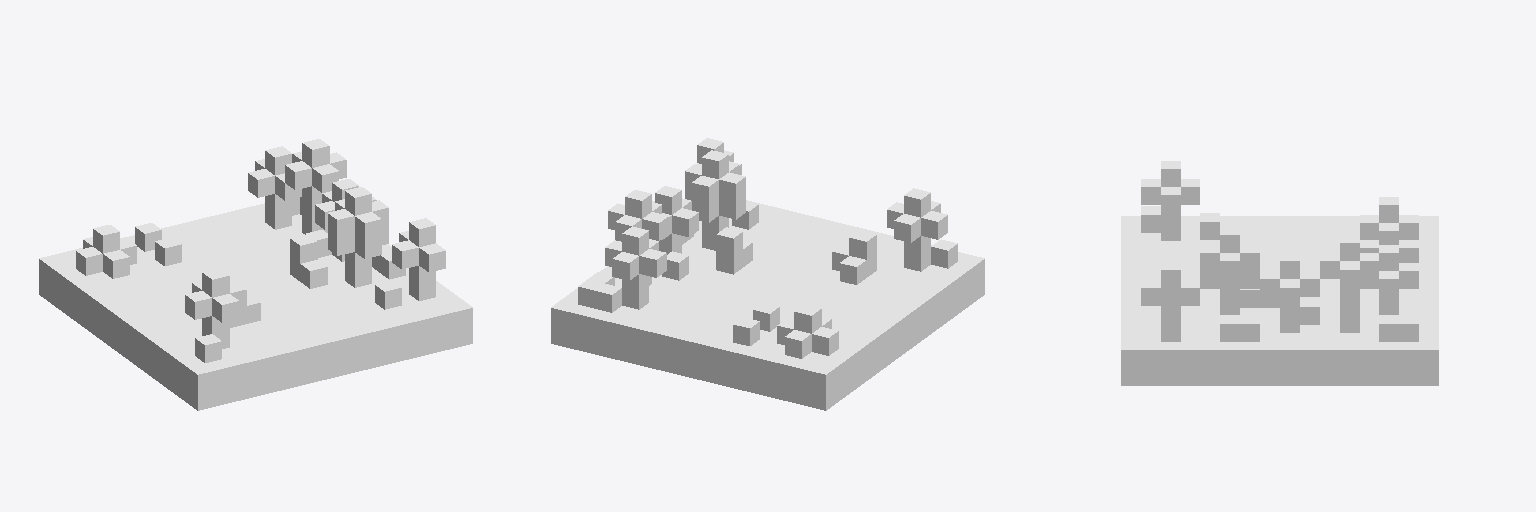
The model's file is Road_T_turn_1.obj.
3 renders of one model, left to right at view 1: azimuth 30°, elevation 25°; view 2: azimuth 150°, elevation 25°; view 3: azimuth 270°, elevation 25°, orthographic.
Parts seen in each view (by area): view 1: object 1; view 2: object 1; view 3: object 1.
Part boxes in pixels (x1,y1,x2,y2): object 1: (39, 139, 472, 410); object 1: (551, 138, 984, 410); object 1: (1121, 161, 1438, 385).
Size of the model in its own units: 1.6 by 0.7 by 1.6.